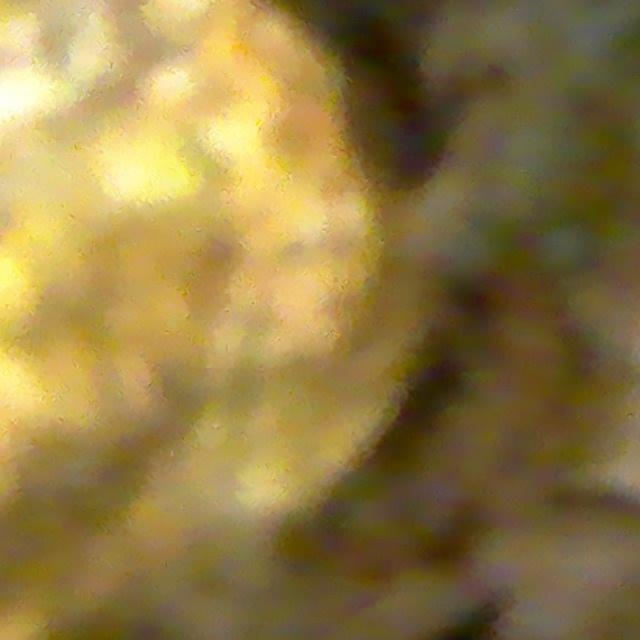SeaGrape: (533, 217, 598, 278)
